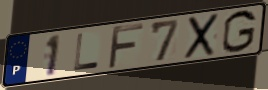1: (44, 32, 62, 77)
7: (149, 18, 182, 63)
F: (106, 22, 146, 71)
G: (221, 9, 259, 55)
L: (72, 32, 101, 73)
X: (182, 11, 221, 61)
